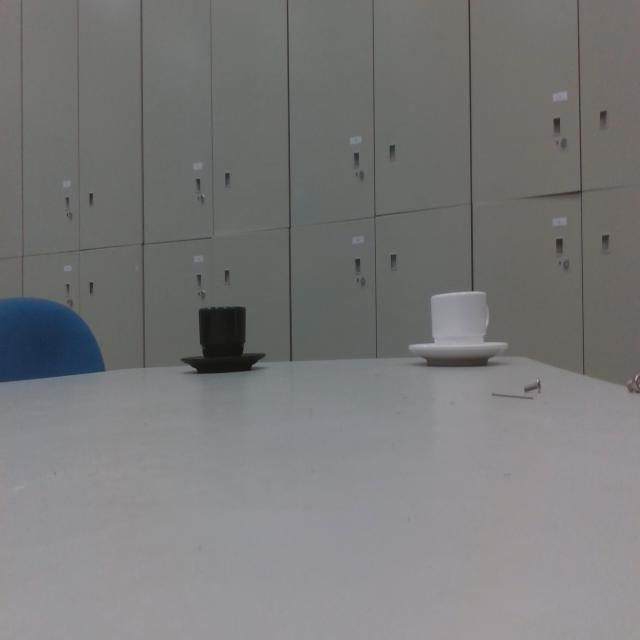black: (178, 296, 267, 379)
white: (406, 280, 511, 372)
